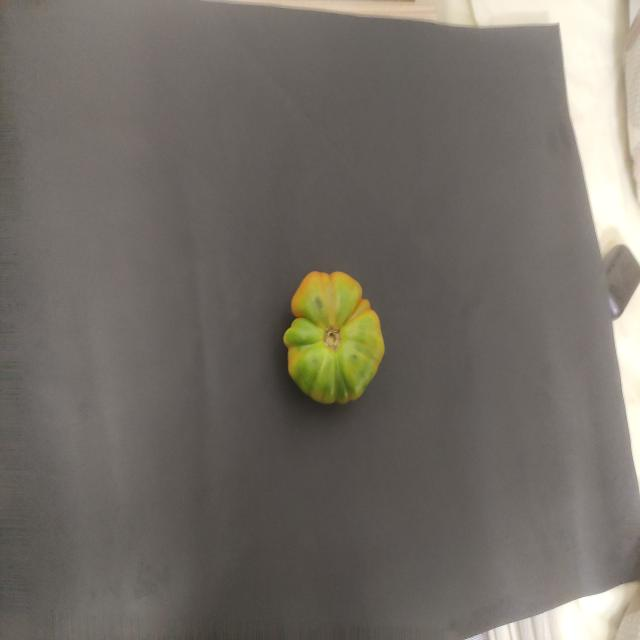yesil: (275, 258, 389, 417)
